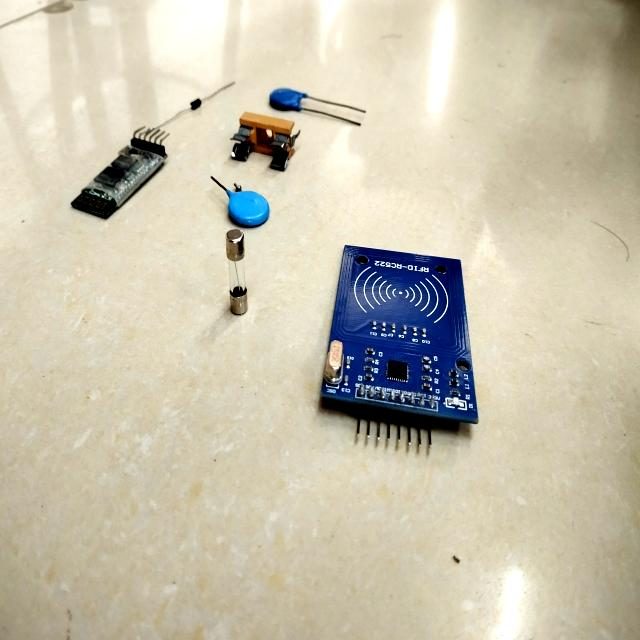capacitor: (228, 190, 269, 225), (269, 89, 302, 111)
